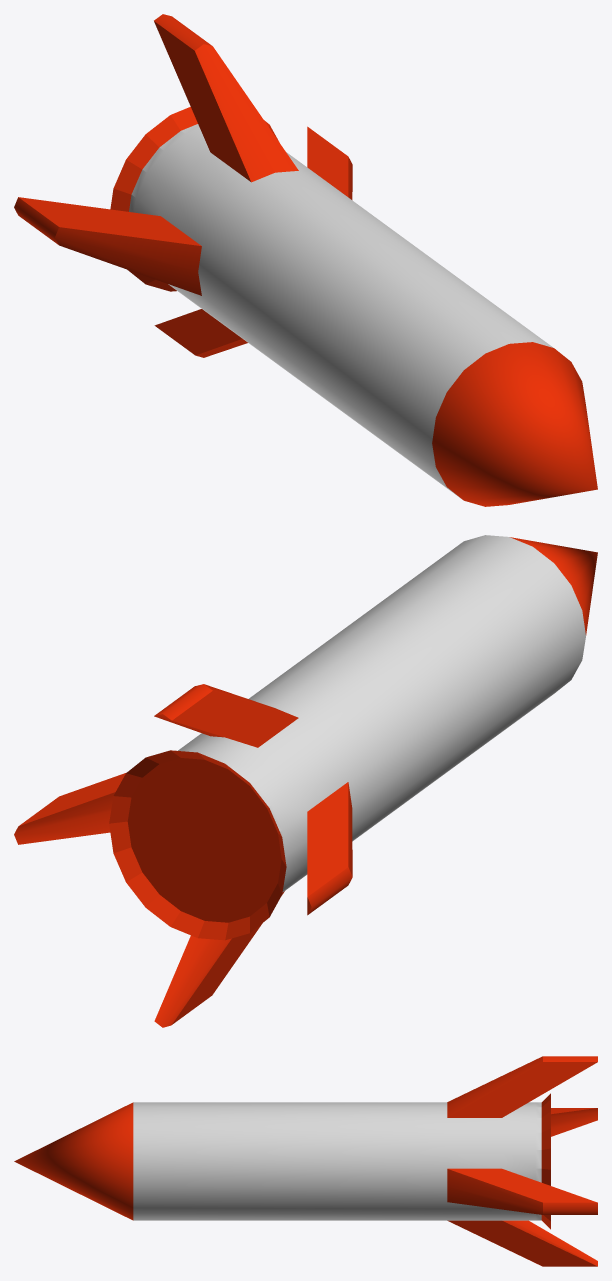
File: EnemySpaceShip 2.fbx
3 renders of one model, top to bottom at view 1: azimuth 30°, elevation 25°; view 2: azimuth 150°, elevation 25°; view 3: azimuth 270°, elevation 25°, orthographic. The views are drawn at different scales.
Visible parts, largest first — view 1: pCone1; view 2: pCone1; view 3: pCone1.
Boxes of the visible parts, left/top/right/bottom form: pCone1: left=14, top=14, right=597, bottom=506; pCone1: left=14, top=535, right=597, bottom=1027; pCone1: left=14, top=1056, right=597, bottom=1266.
Bounding box in the file's own units: 3.87 × 3.9 × 9.79.
